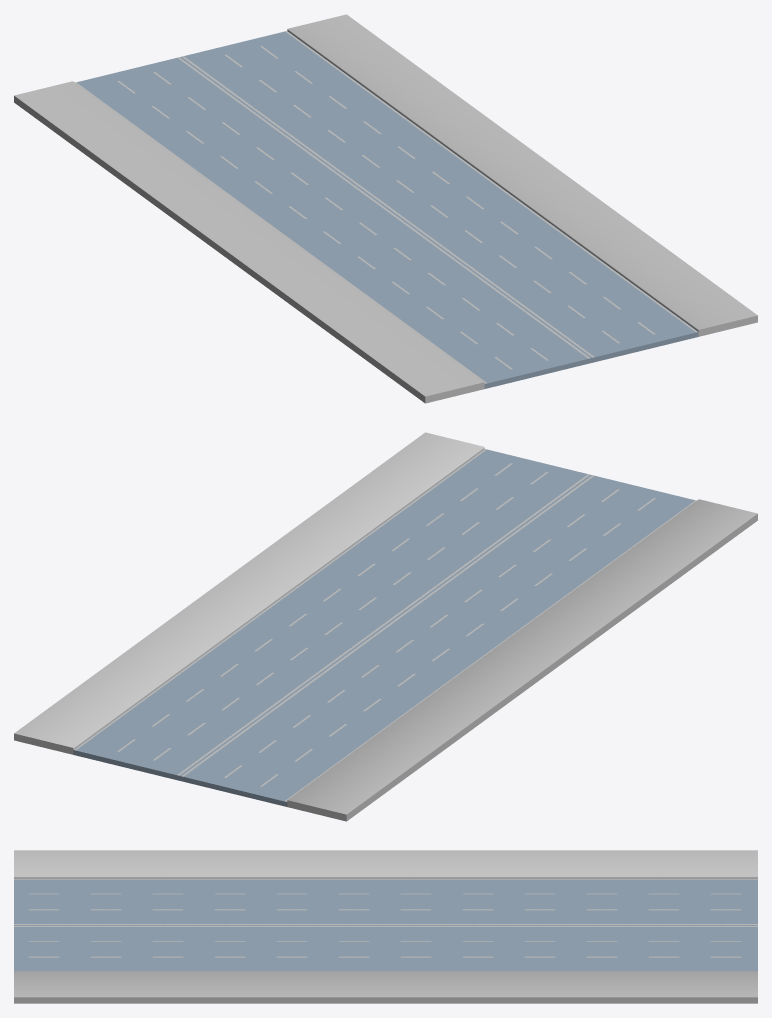
Rendered from Road_001.fbx.
3 renders of one model, top to bottom at view 1: azimuth 30°, elevation 25°; view 2: azimuth 150°, elevation 25°; view 3: azimuth 270°, elevation 25°, orthographic. The views are drawn at different scales.
Visible parts, largest first — view 1: Road_001; view 2: Road_001; view 3: Road_001.
Part boxes in pixels (x1,y1,x2,y2): Road_001: (14,14,757,403); Road_001: (14,432,757,821); Road_001: (14,850,757,1003).
Bounding box in the file's own units: 2802 × 56.17 × 6000.
